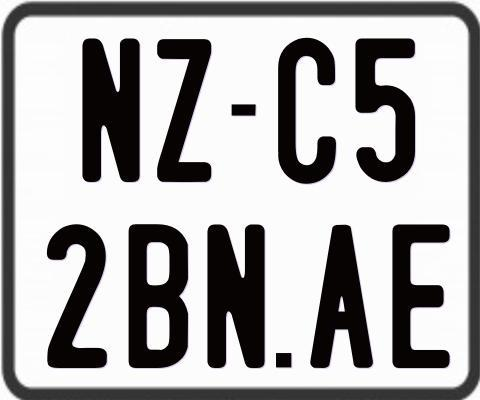2: (47, 222, 109, 371)
5: (355, 37, 417, 187)
A: (310, 224, 377, 373)
B: (128, 224, 192, 368)
C: (277, 36, 335, 186)
E: (392, 224, 454, 371)
N: (80, 35, 144, 179), (205, 224, 266, 374)
Z: (157, 37, 217, 181)
